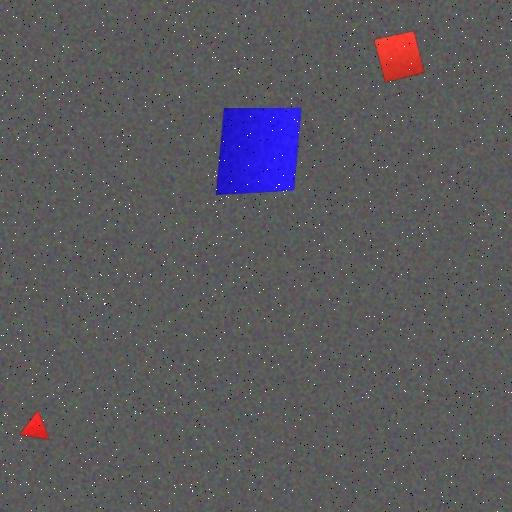BLUE_SQUARE: (215, 107, 302, 195)
RED_SQUARE: (374, 30, 426, 84)
